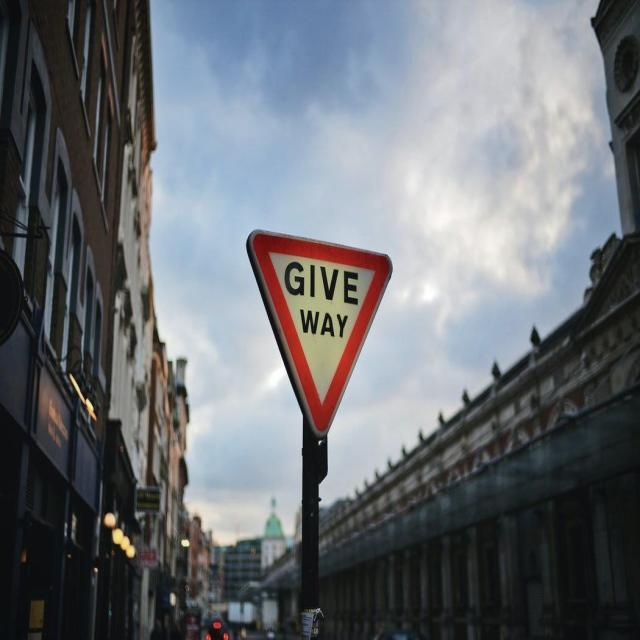give way: (246, 232, 394, 440)
